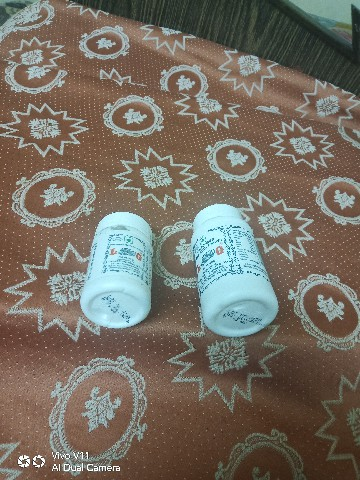lgasafoetidapowder large: (183, 191, 284, 344)
lgasafoetidapowder small: (71, 186, 170, 358)
